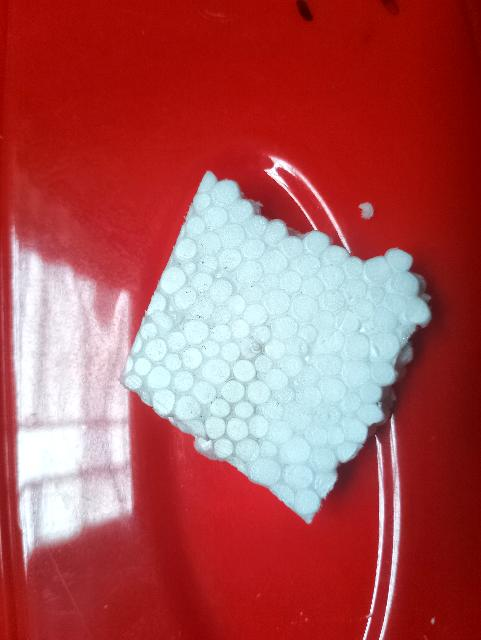cocksheet: (142, 156, 408, 526)
